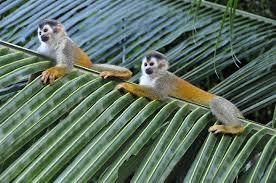Non_Gorille: (33, 4, 261, 141)
